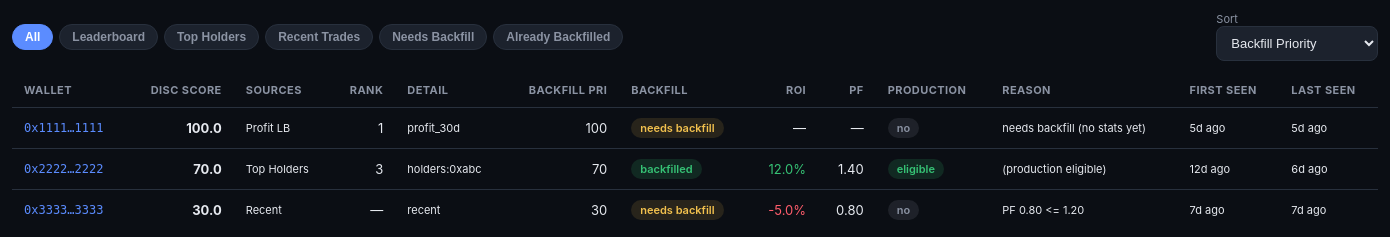
Scenario: DiscoveryCandidatesTable › filters to Needs Backfill
The image size is (1390, 237).
Click the button "Needs Backfill" at (433,36), box [379,24,487,50]
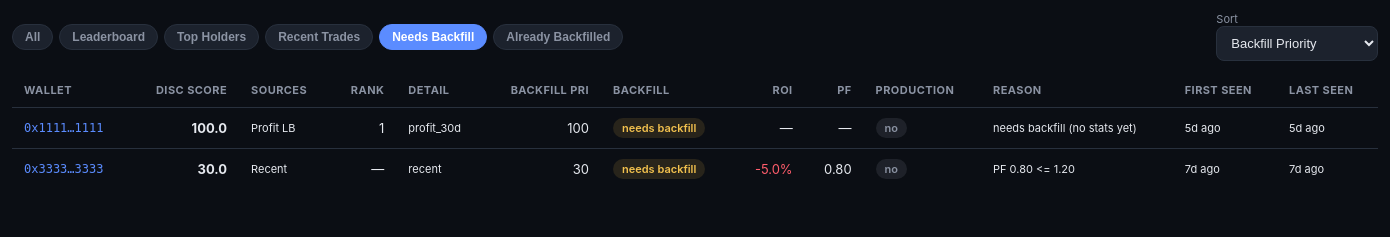
Check: the number of rows with test id "discovery-row" is 2, box [12,108,1378,148]; [12,148,1378,189]
